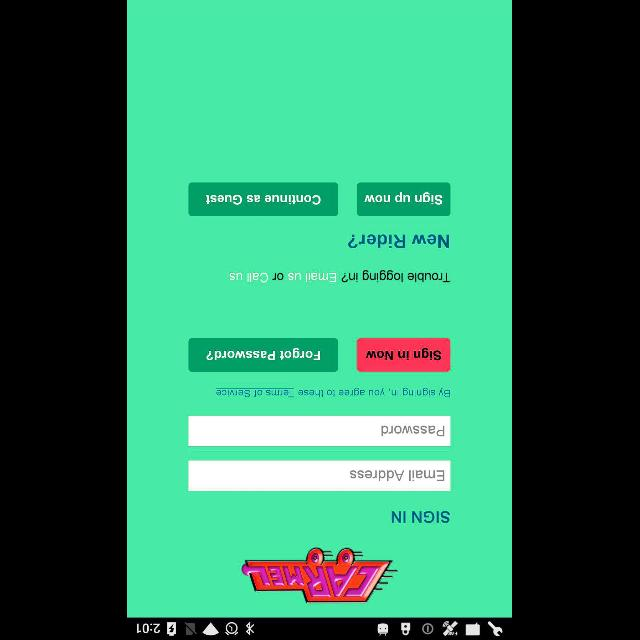image: (242, 546, 398, 604)
input: (189, 416, 451, 446), (189, 460, 451, 490)
text: (230, 270, 452, 282), (216, 387, 450, 397), (348, 234, 450, 248), (351, 471, 445, 482), (392, 511, 451, 524), (382, 426, 446, 436)
textbutton: (189, 182, 339, 216), (189, 338, 339, 372), (357, 338, 451, 372), (358, 182, 450, 215)
uppertaskbar: (128, 617, 512, 639)
